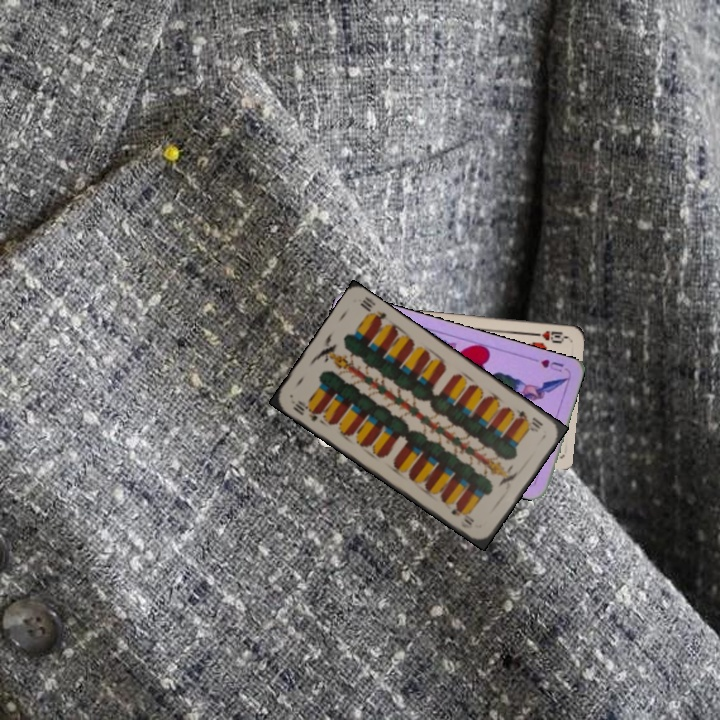E10: (289, 396, 323, 424), (512, 405, 546, 432)
H10: (529, 326, 570, 345)
HU: (537, 355, 566, 377)
